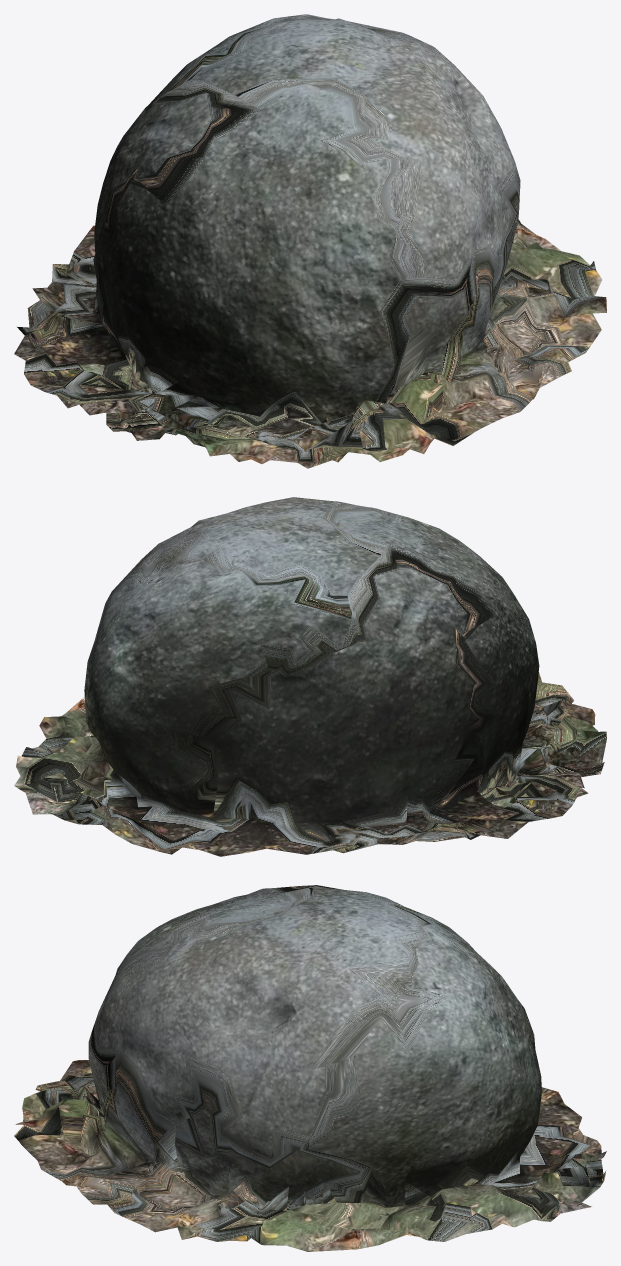
File: rock_boulder_lod1.glb
3 renders of one model, top to bottom at view 1: azimuth 30°, elevation 25°; view 2: azimuth 150°, elevation 25°; view 3: azimuth 270°, elevation 25°, orthographic. The views are drawn at different scales.
Parts seen in each view (by area): view 1: big_boulder; view 2: big_boulder; view 3: big_boulder.
Part boxes in pixels (left/top/right/bottom): big_boulder: left=14, top=14, right=606, bottom=468; big_boulder: left=14, top=497, right=606, bottom=856; big_boulder: left=14, top=885, right=606, bottom=1251.
Size of the model in its own units: 1.77 by 0.851 by 1.86.
1 material, 1 textured.
